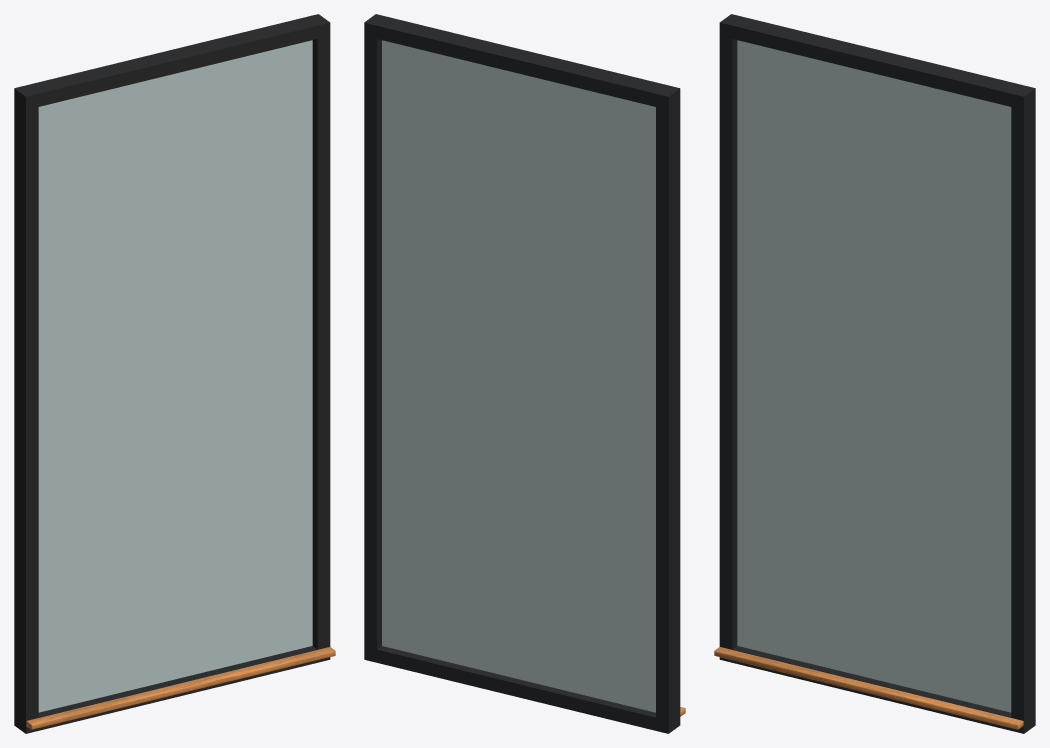
File: architecture.floor-to-ceiling-window.glb
The picture shows the model from 3 angles, left to right: view 1: azimuth 30°, elevation 25°; view 2: azimuth 150°, elevation 25°; view 3: azimuth 330°, elevation 25°; orthographic projection.
Parts seen in each view (by area): view 1: architecture.floor-to-ceiling-window.001; view 2: architecture.floor-to-ceiling-window.001; view 3: architecture.floor-to-ceiling-window.001.
Boxes of the visible parts, <box> form: architecture.floor-to-ceiling-window.001: <box>14,14,335,733</box>; architecture.floor-to-ceiling-window.001: <box>364,14,685,733</box>; architecture.floor-to-ceiling-window.001: <box>714,14,1035,733</box>.
Bounding box in the file's own units: 1.2 × 2.4 × 0.12.
Materials: 3 (1 with a texture image).
